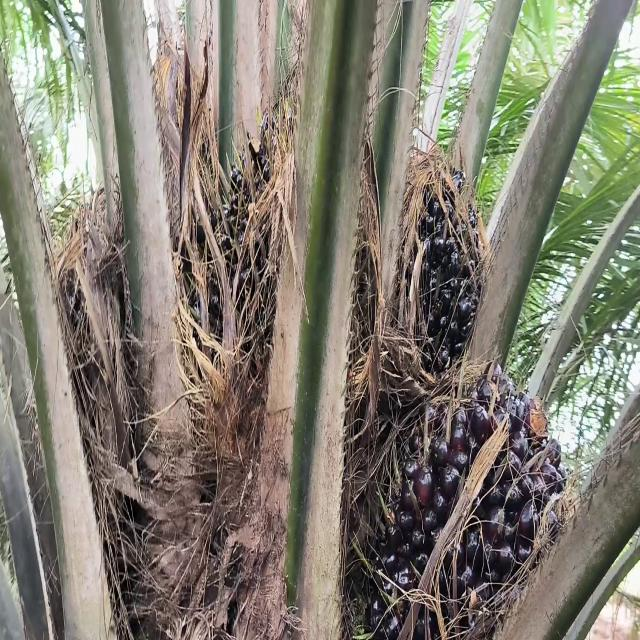palm-oil: (368, 329, 577, 640), (406, 144, 487, 368)
